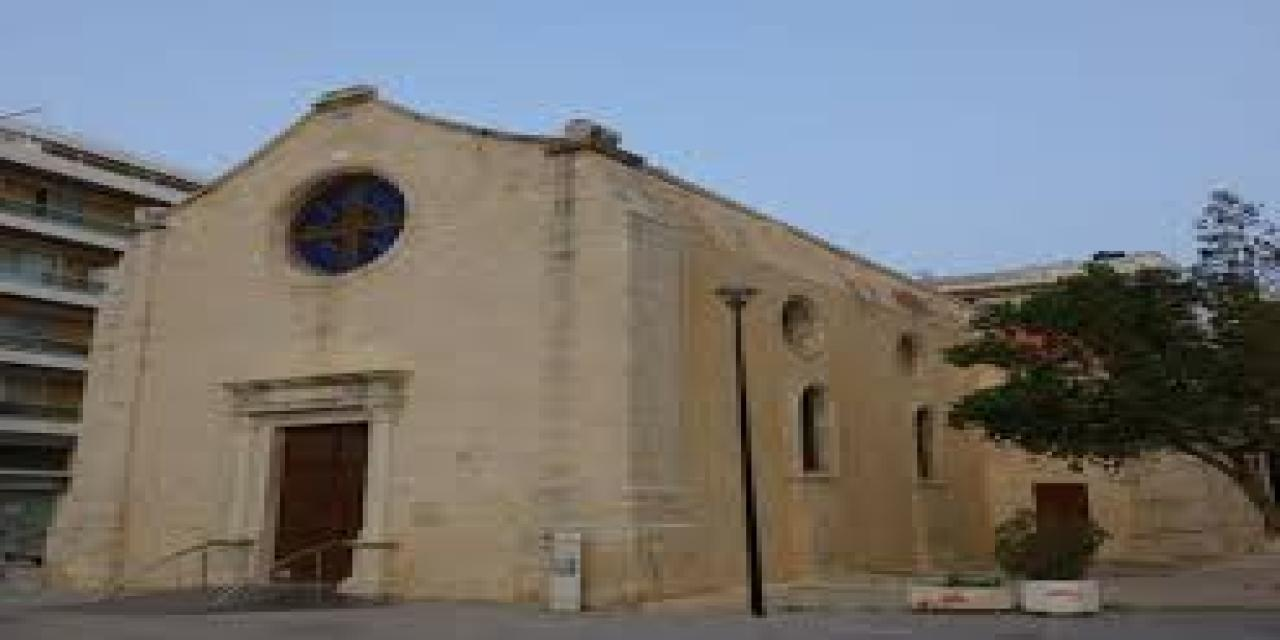Agia Aikaterini: (68, 89, 1104, 588)
